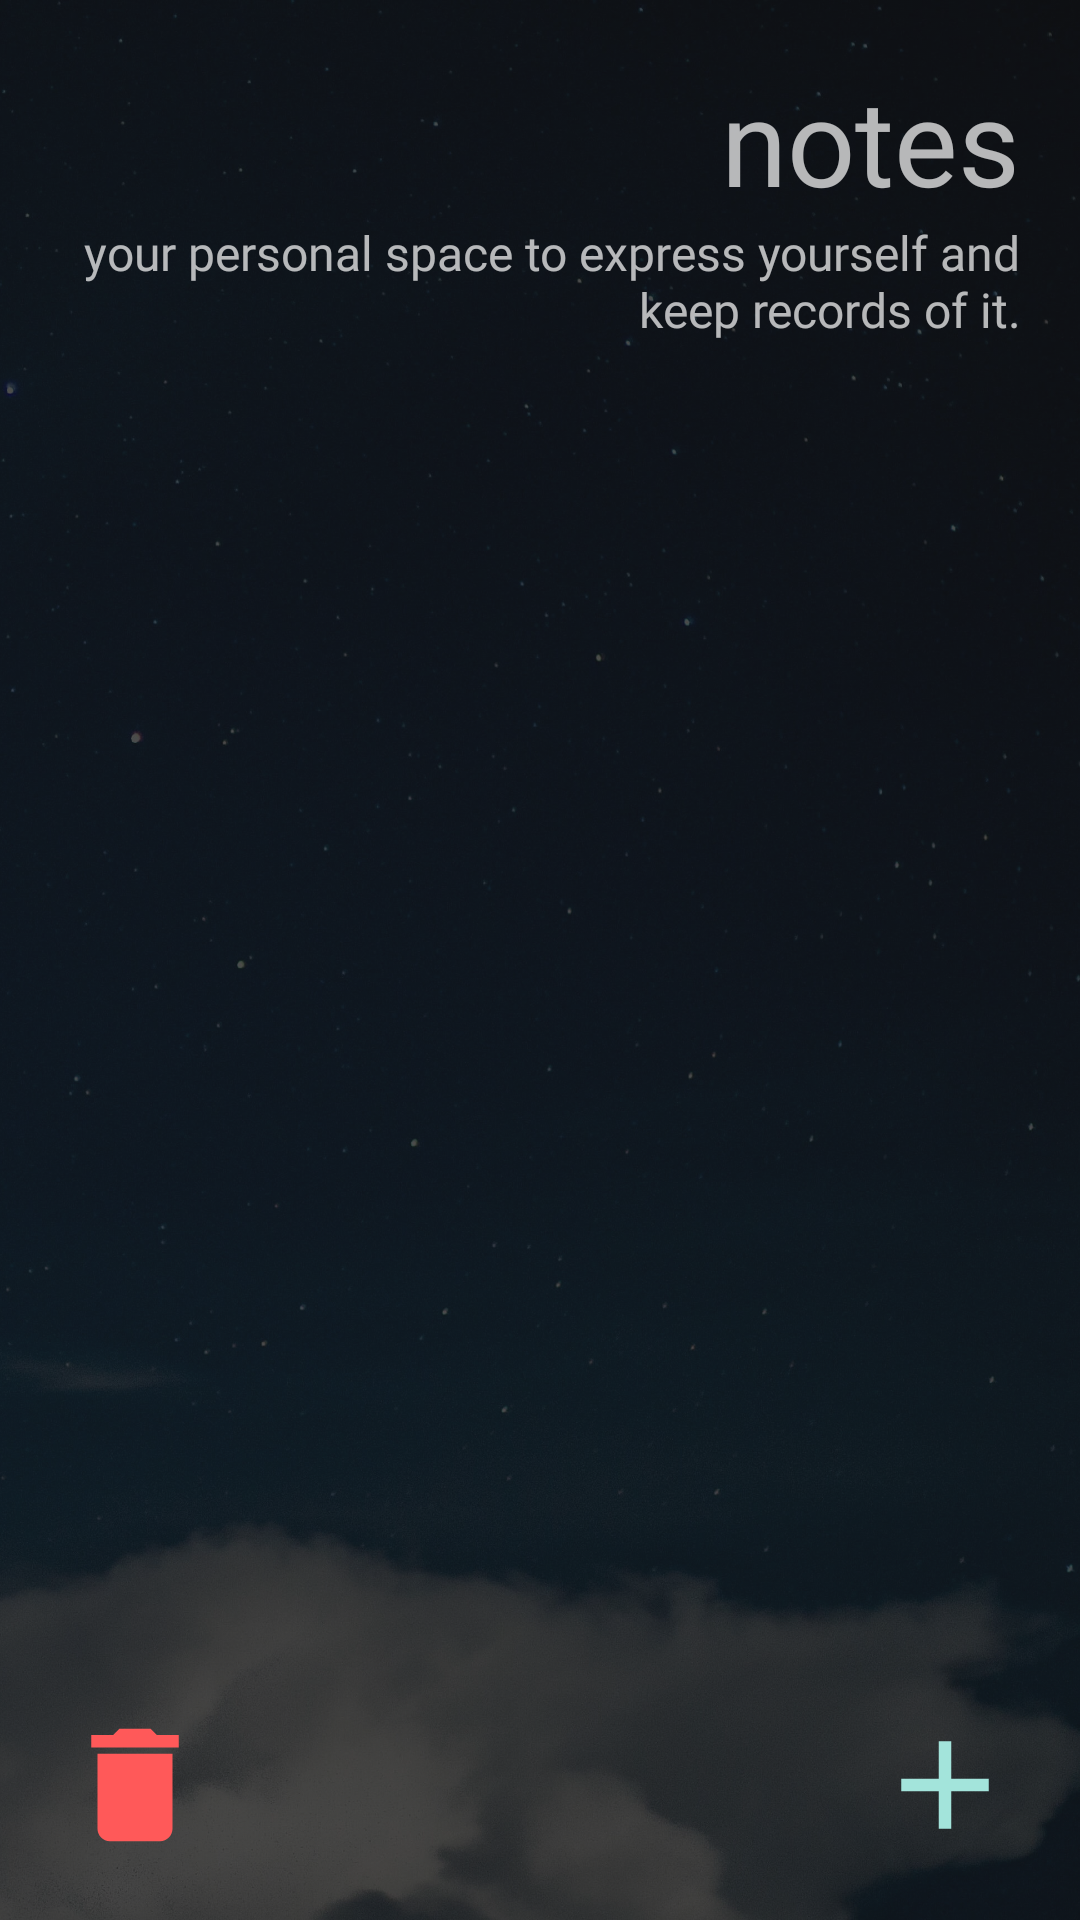

Point at icon controls on the screen. Image size 1080×1920, points as (x=x, y=y).
add: (x=945, y=1785)
delete: (x=132, y=1776)
